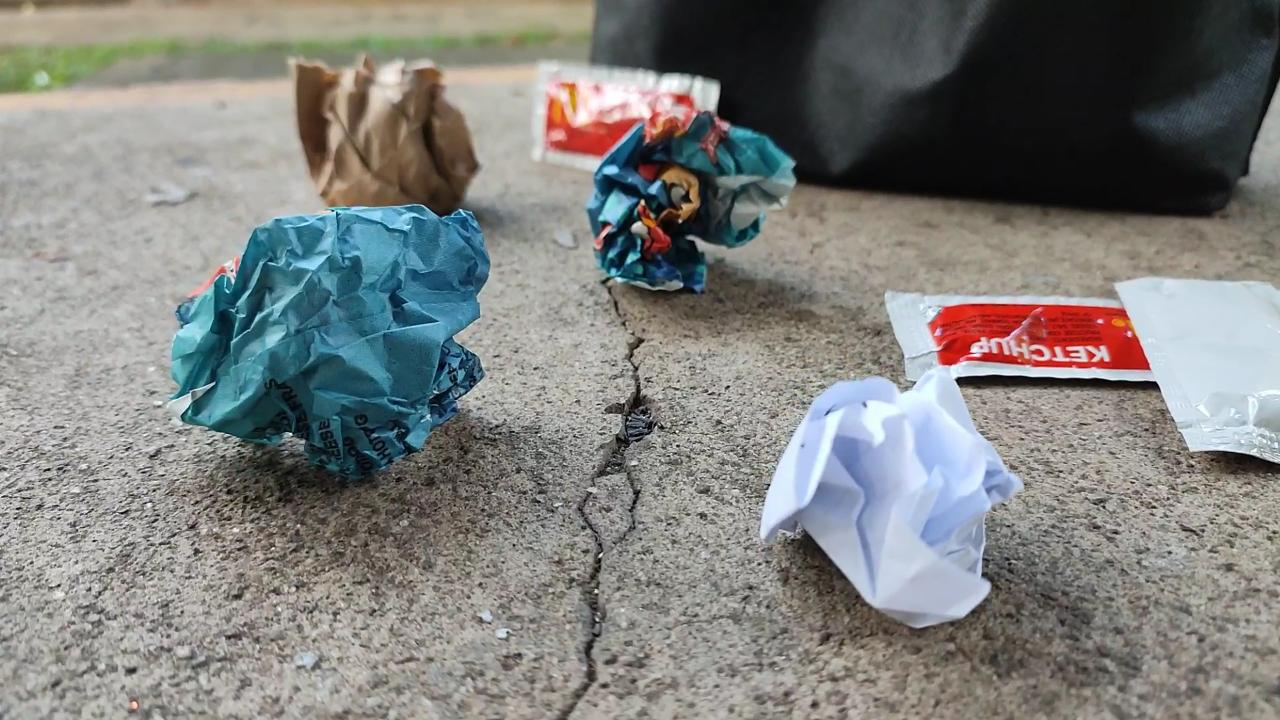Paper: (154, 197, 500, 495), (746, 350, 1026, 637), (244, 39, 500, 222), (587, 103, 802, 302)
